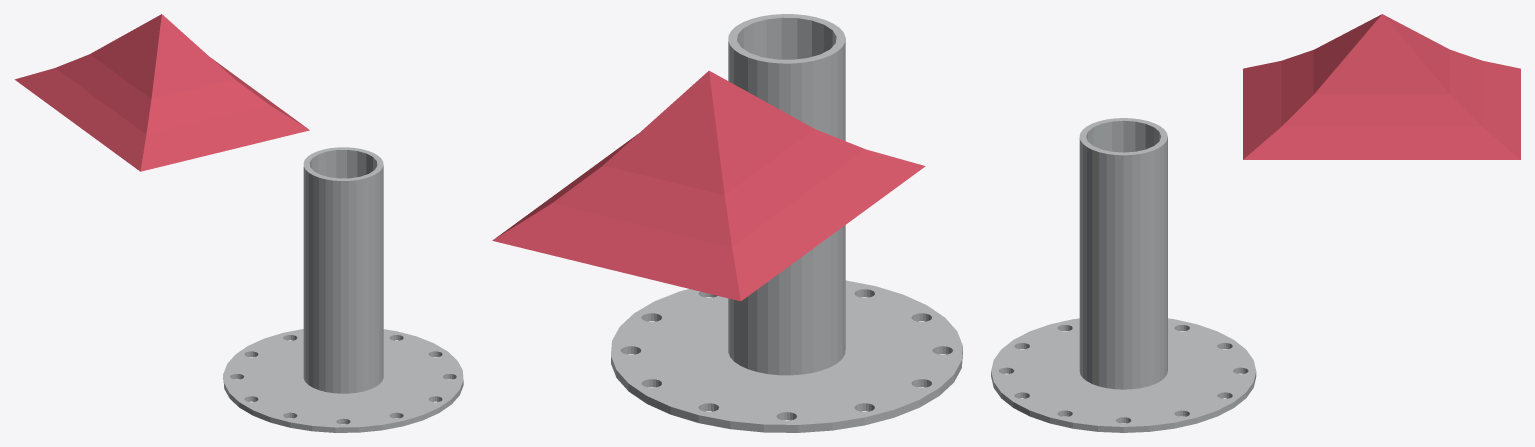
The model's file is Cool Inari.glb.
3 renders of one model, left to right at view 1: azimuth 30°, elevation 25°; view 2: azimuth 150°, elevation 25°; view 3: azimuth 270°, elevation 25°, orthographic. The views are drawn at different scales.
Visible parts, largest first — view 1: Mesh_Mesh_head_geo.001_lambert2SG.001; view 2: Mesh_Mesh_head_geo.001_lambert2SG.001; view 3: Mesh_Mesh_head_geo.001_lambert2SG.001.
Part boxes in pixels (box(x1,y1,x2,y2)): Mesh_Mesh_head_geo.001_lambert2SG.001: box(14, 14, 463, 432); Mesh_Mesh_head_geo.001_lambert2SG.001: box(492, 14, 962, 432); Mesh_Mesh_head_geo.001_lambert2SG.001: box(991, 14, 1520, 432).
Bounding box in the file's own units: 72.88 × 82 × 120.
